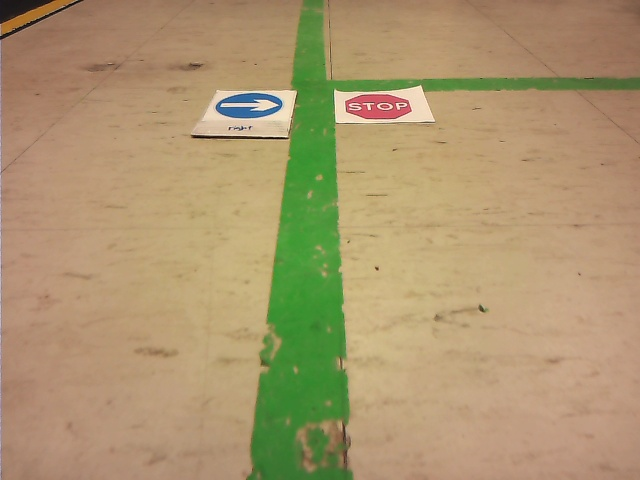STOP: (346, 94, 411, 119)
TURN RIGHT: (215, 92, 282, 117)
